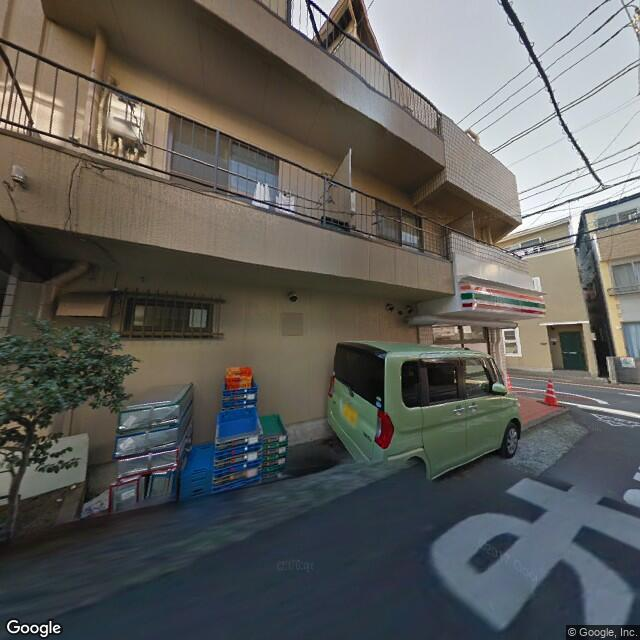7-eleven: (457, 280, 547, 321)
